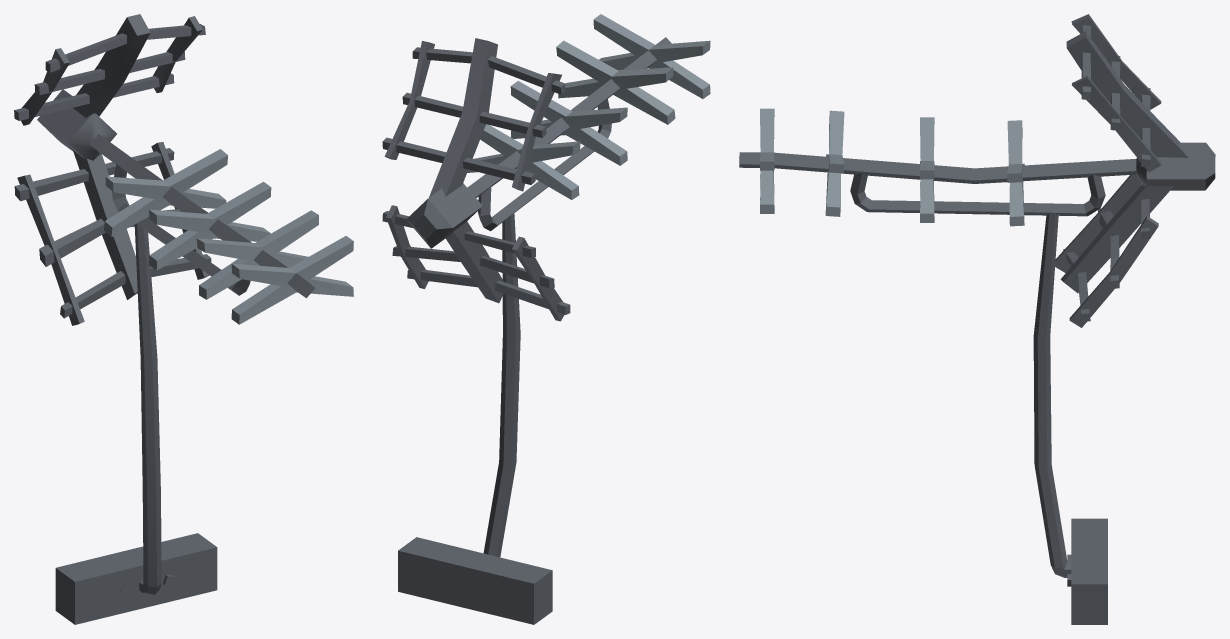
The model's file is SM_Prop_TV_Antenna_03.fbx.
3 renders of one model, left to right at view 1: azimuth 30°, elevation 25°; view 2: azimuth 150°, elevation 25°; view 3: azimuth 270°, elevation 25°, orthographic. The views are drawn at different scales.
Visible parts, largest first — view 1: SM_Prop_TV_Antenna_03; view 2: SM_Prop_TV_Antenna_03; view 3: SM_Prop_TV_Antenna_03.
Boxes of the visible parts, box(x1,y1,x2,y2) form: SM_Prop_TV_Antenna_03: box(14, 14, 353, 624); SM_Prop_TV_Antenna_03: box(382, 14, 710, 624); SM_Prop_TV_Antenna_03: box(739, 14, 1215, 624).
Bounding box in the file's own units: 52.86 × 184 × 143.
